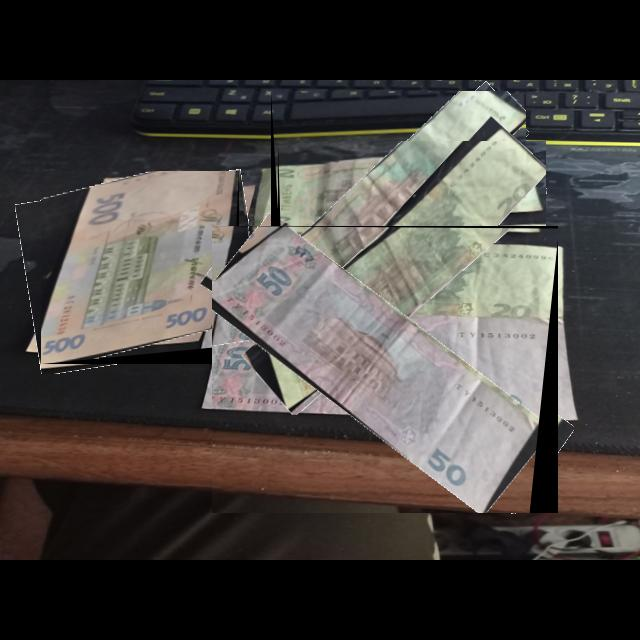20uah: (283, 141, 547, 405), (279, 91, 527, 316)
500uah: (41, 171, 238, 365)
50uah: (212, 227, 543, 514)
